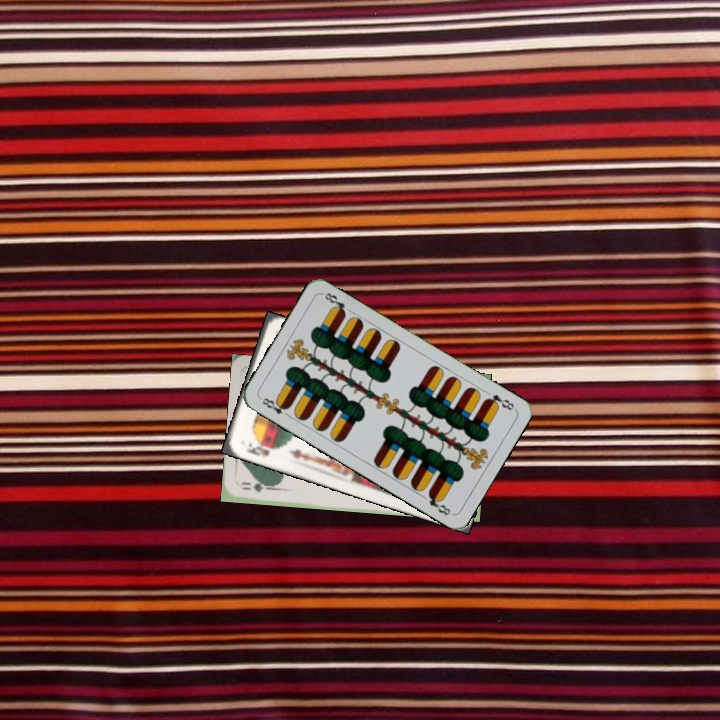E8: (256, 393, 293, 420), (481, 390, 517, 413)
GO: (239, 480, 277, 495)
SK: (242, 438, 280, 461)
